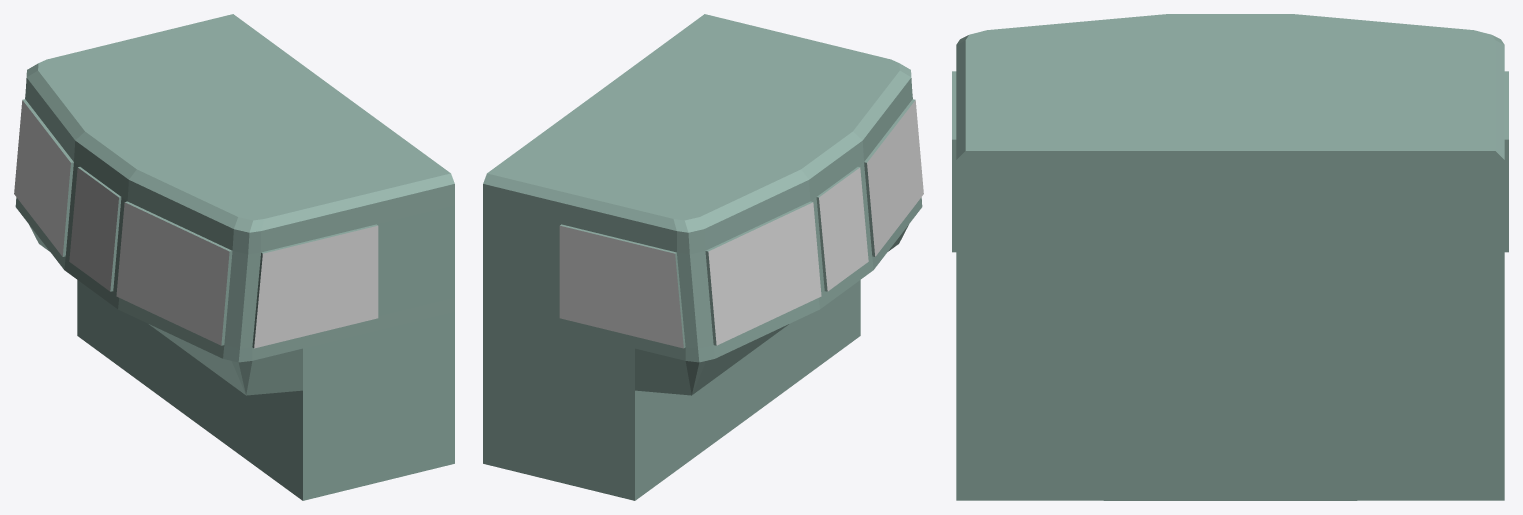
Rendered from Kabina.fbx.
3 renders of one model, left to right at view 1: azimuth 30°, elevation 25°; view 2: azimuth 150°, elevation 25°; view 3: azimuth 270°, elevation 25°, orthographic. The views are drawn at different scales.
Visible parts, largest first — view 1: Plane.001; view 2: Plane.001; view 3: Plane.001.
Part boxes in pixels (box(x1,y1,x2,y2)): Plane.001: box(14, 14, 454, 500); Plane.001: box(483, 14, 923, 500); Plane.001: box(952, 14, 1508, 500).
Size of the model in its own units: 637 by 693 by 1000.
